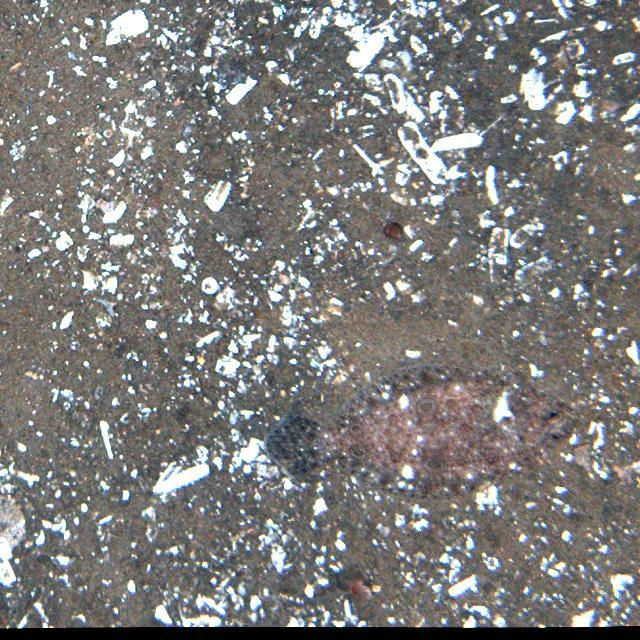flatfish: (262, 352, 578, 497)
